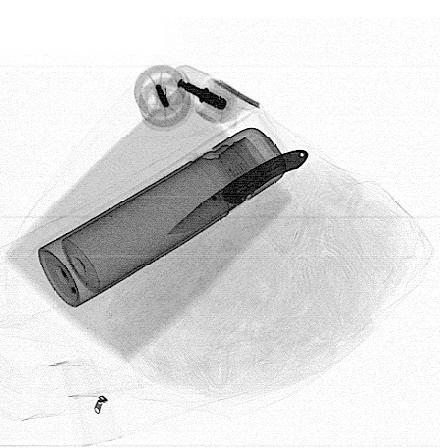Knife: (162, 148, 312, 237)
